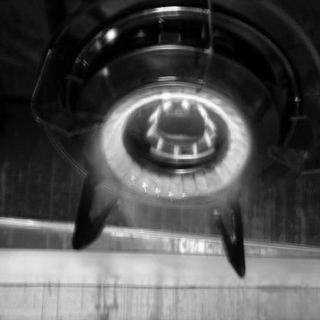Fire: (74, 78, 270, 258)
